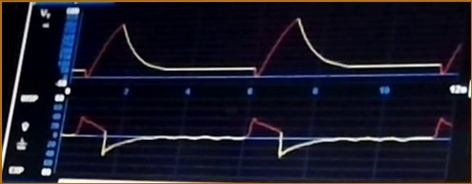Flow: (69, 105, 452, 172)
Leakage Volume: (78, 14, 461, 83)
